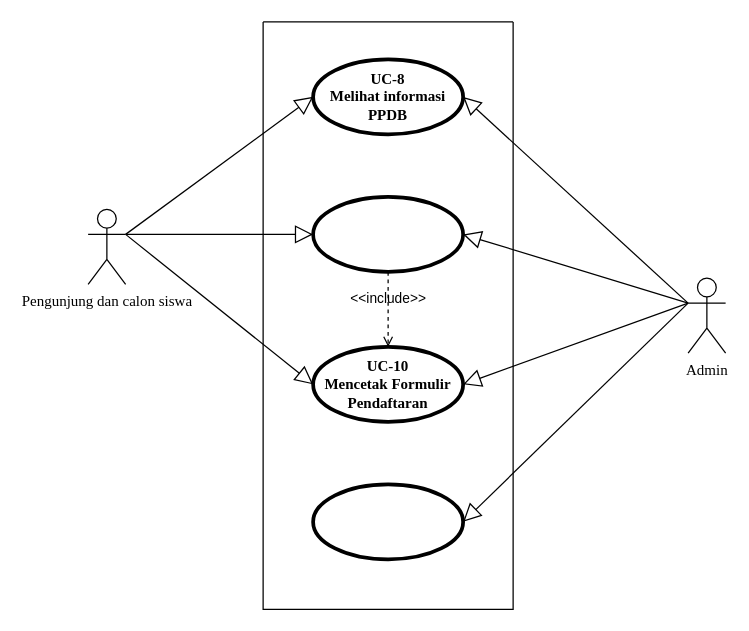
This 749x631 diagram has some shape labels left out. The shapes that lost their labels are listed below. From the top down, each one's centre as x and y in pixels, then its label:
At [387,233]: "UC-9 Melakukan Pendafratan".
At [387,521]: "Login Admin".
